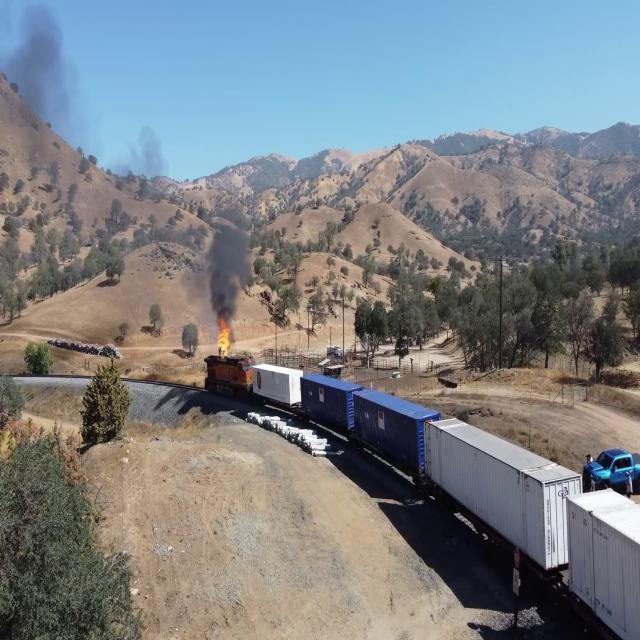Fire: (212, 322, 232, 365)
Smoke: (206, 193, 255, 323)
